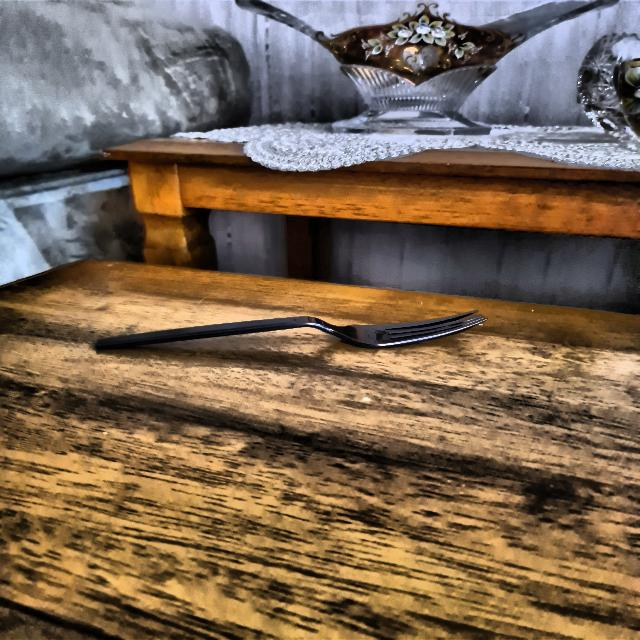plastic utensil: (85, 307, 496, 356)
